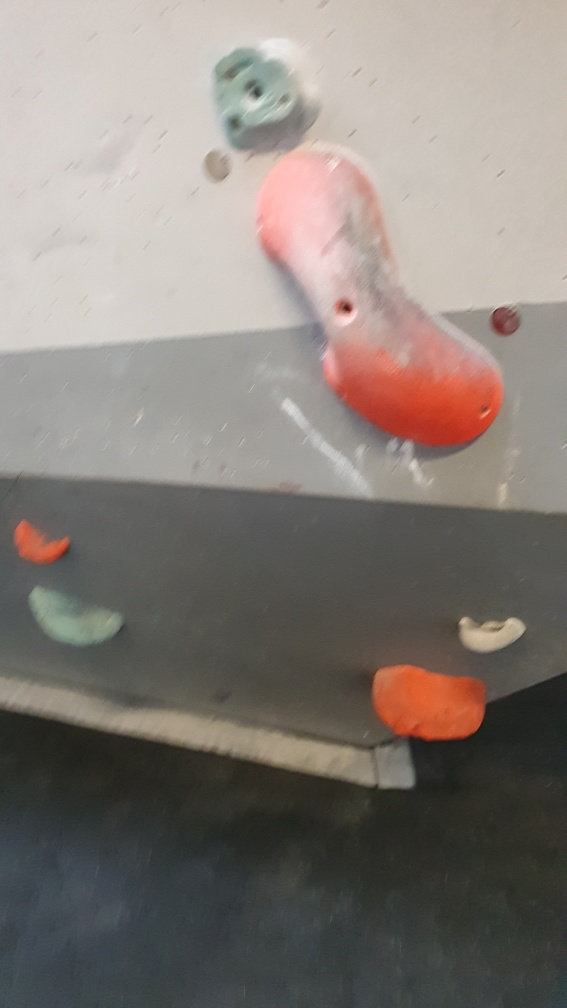Hand Start: (197, 144, 236, 189), (491, 304, 525, 338)
Jug: (12, 514, 70, 573), (452, 612, 533, 654)
Pinch: (254, 136, 504, 449)
